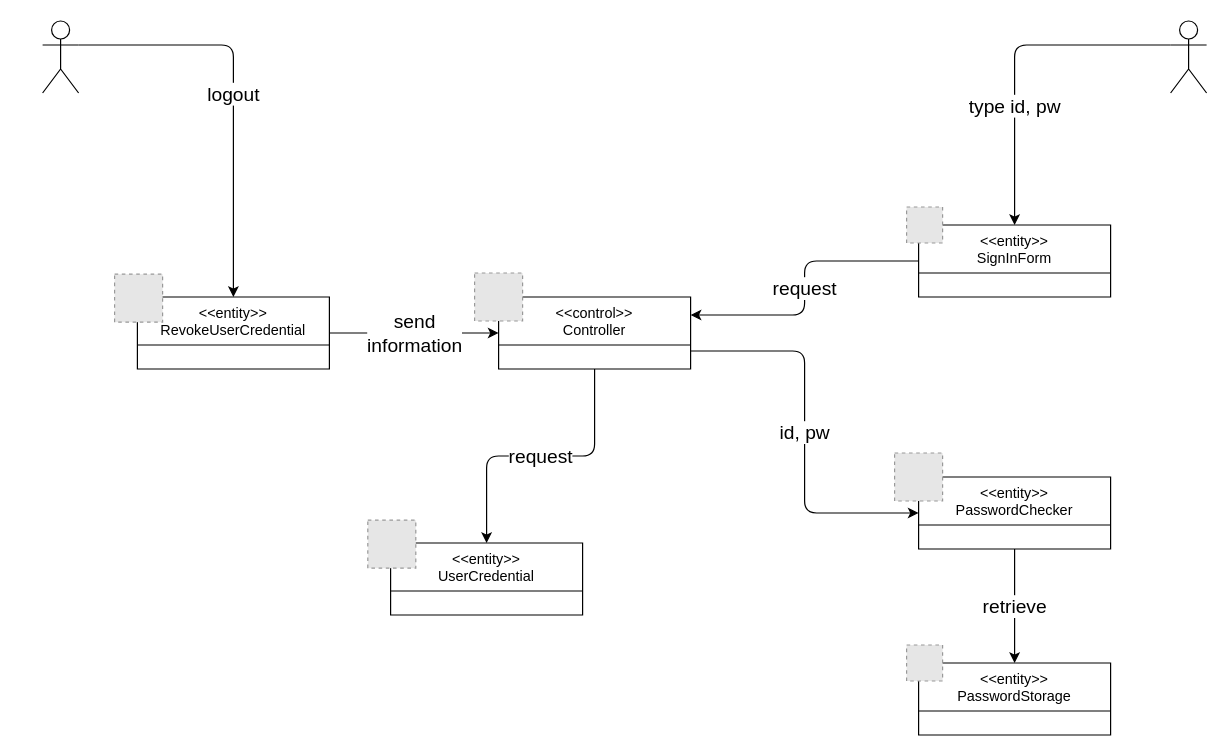
Some shapes in this 1231 by 756 pixel diagram are drawn without their labels. Grey dashed boxes stand in for pictures. The shapes that lost their labels are listed below. From the top down, each one's centre as x and y in pixels, then its label:
At [60,56]: "Member".
At [1188,56]: "User".
